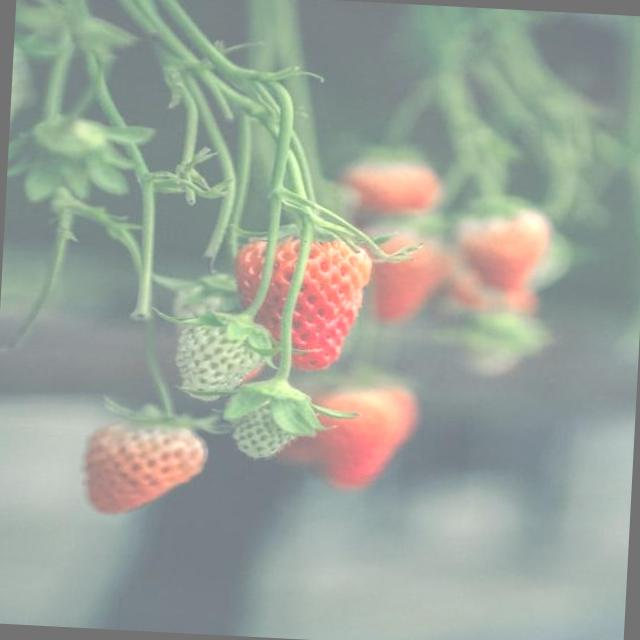Strawberry: (229, 230, 372, 374), (81, 409, 208, 520), (298, 373, 415, 492), (358, 220, 453, 328), (452, 197, 548, 296), (175, 309, 276, 403), (224, 380, 314, 462)
